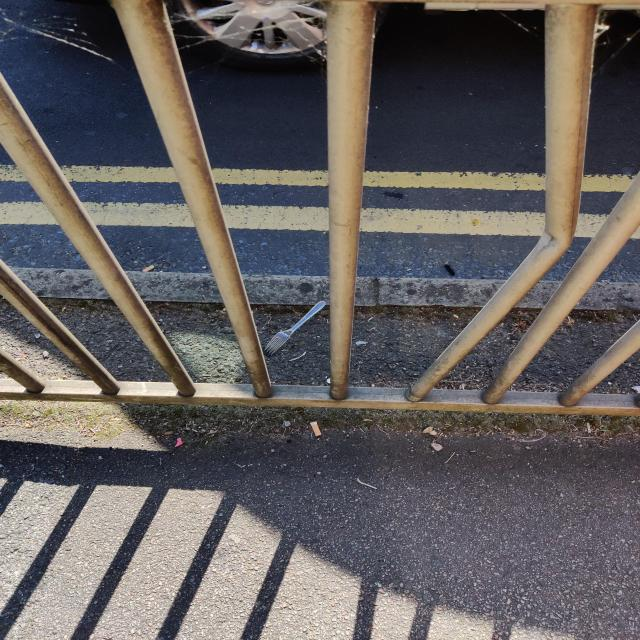litter: (264, 301, 325, 354), (310, 421, 321, 436), (142, 265, 155, 271)
